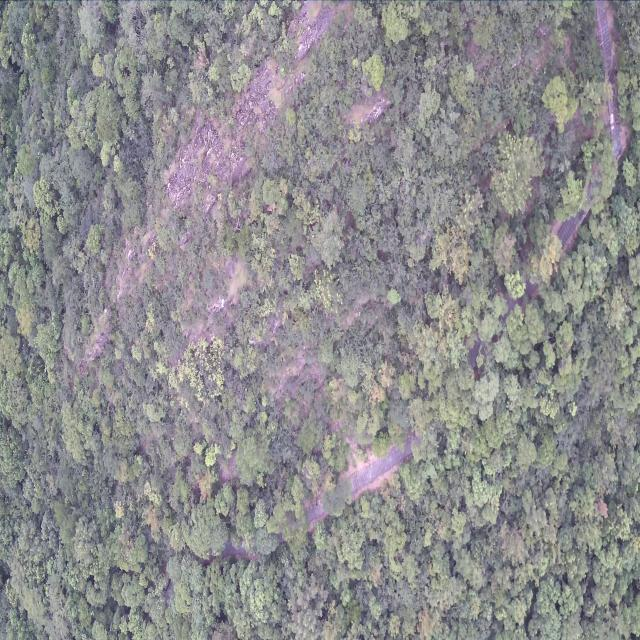UAV: (219, 298, 227, 310)
